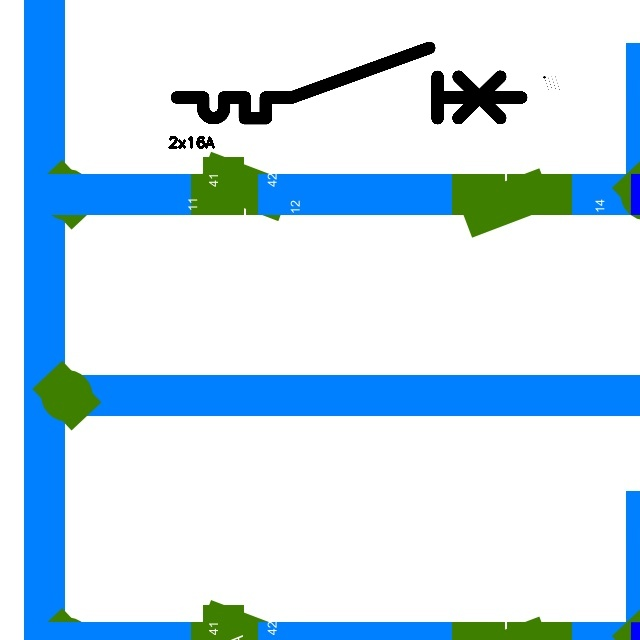interruptor_termomagnetico: (168, 39, 530, 127)
